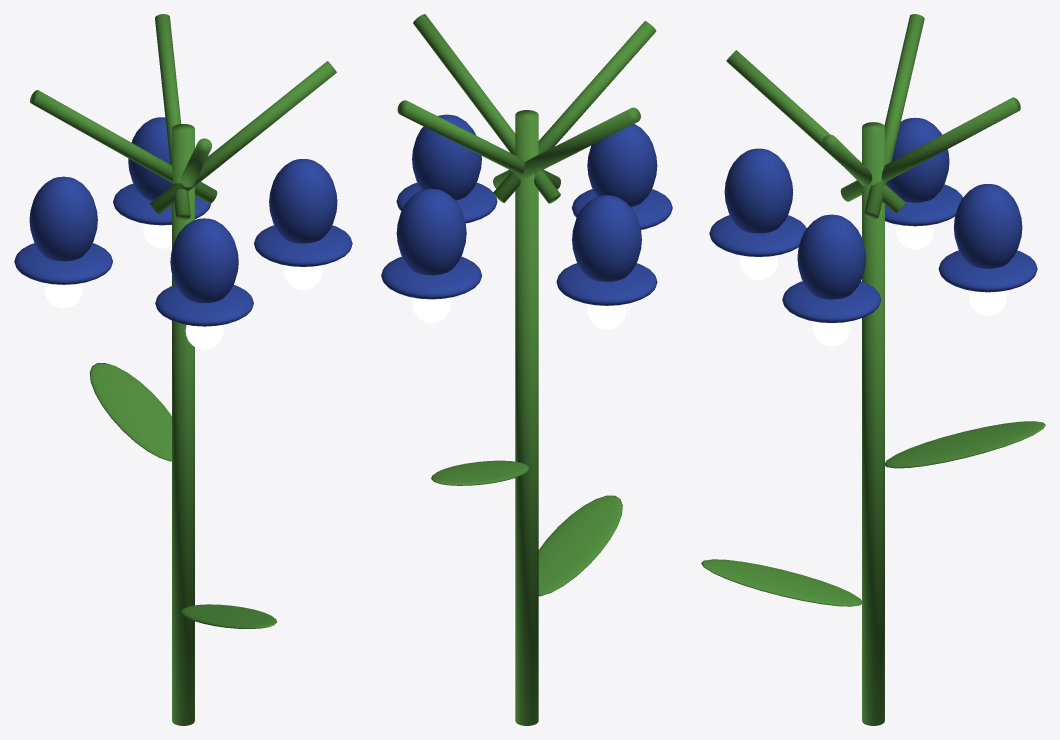
Rendered from SM_Glowbell.fbx.
The picture shows the model from 3 angles, left to right: view 1: azimuth 30°, elevation 25°; view 2: azimuth 150°, elevation 25°; view 3: azimuth 270°, elevation 25°; orthographic projection. The views are drawn at different scales.
Visible parts, largest first — view 1: Stem.002, Bell_1_Body, Bell_0_Body, Bell_3_Body, Leaf_1.002, Branch_3, Branch_1, Bell_1_Rim, Bell_0_Rim, Bell_3_Rim, Branch_2, Bell_2_Body (+7 smaller); view 2: Stem.002, Bell_1_Body, Bell_2_Body, Leaf_0.002, Bell_0_Body, Bell_3_Body, Branch_0, Branch_3, Bell_2_Rim, Bell_1_Rim, Branch_2, Branch_1 (+5 smaller); view 3: Stem.002, Bell_3_Body, Bell_0_Body, Bell_2_Body, Leaf_1.002, Leaf_0.002, Bell_1_Body, Branch_1, Branch_2, Bell_3_Rim, Bell_2_Rim, Bell_0_Rim (+7 smaller).
Boxes of the visible parts, left/top/right/bottom form: Stem.002: left=172, top=124, right=194, bottom=725; Bell_1_Body: left=29, top=176, right=97, bottom=261; Bell_0_Body: left=170, top=218, right=238, bottom=302; Bell_3_Body: left=269, top=159, right=337, bottom=243; Leaf_1.002: left=89, top=363, right=171, bottom=461; Branch_3: left=150, top=61, right=336, bottom=214; Branch_1: left=30, top=90, right=217, bottom=203; Bell_1_Rim: left=14, top=243, right=112, bottom=284; Bell_0_Rim: left=155, top=285, right=253, bottom=326; Bell_3_Rim: left=254, top=225, right=352, bottom=266; Branch_2: left=155, top=14, right=190, bottom=220; Bell_2_Body: left=128, top=117, right=171, bottom=200; Stem.002: left=515, top=110, right=538, bottom=725; Bell_1_Body: left=572, top=195, right=641, bottom=281; Bell_2_Body: left=396, top=188, right=466, bottom=275; Leaf_0.002: left=538, top=495, right=622, bottom=596; Bell_0_Body: left=587, top=124, right=657, bottom=206; Bell_3_Body: left=412, top=114, right=481, bottom=200; Branch_0: left=493, top=21, right=656, bottom=202; Branch_3: left=413, top=14, right=560, bottom=203; Bell_2_Rim: left=381, top=256, right=481, bottom=299; Bell_1_Rim: left=556, top=263, right=657, bottom=305; Branch_2: left=397, top=100, right=560, bottom=189; Branch_1: left=493, top=107, right=640, bottom=188; Stem.002: left=862, top=122, right=884, bottom=725; Bell_3_Body: left=797, top=214, right=865, bottom=299; Bell_0_Body: left=724, top=148, right=792, bottom=233; Bell_2_Body: left=954, top=184, right=1022, bottom=268; Leaf_1.002: left=884, top=421, right=1045, bottom=468; Leaf_0.002: left=701, top=559, right=861, bottom=606; Bell_1_Body: left=886, top=117, right=949, bottom=202; Branch_1: left=864, top=14, right=924, bottom=218; Branch_2: left=840, top=97, right=1020, bottom=201; Bell_3_Rim: left=782, top=281, right=881, bottom=322; Bell_2_Rim: left=938, top=250, right=1037, bottom=292; Bell_0_Rim: left=709, top=215, right=806, bottom=256.
Bounding box in the file's own units: 0.4307 × 0.9361 × 0.4525.
